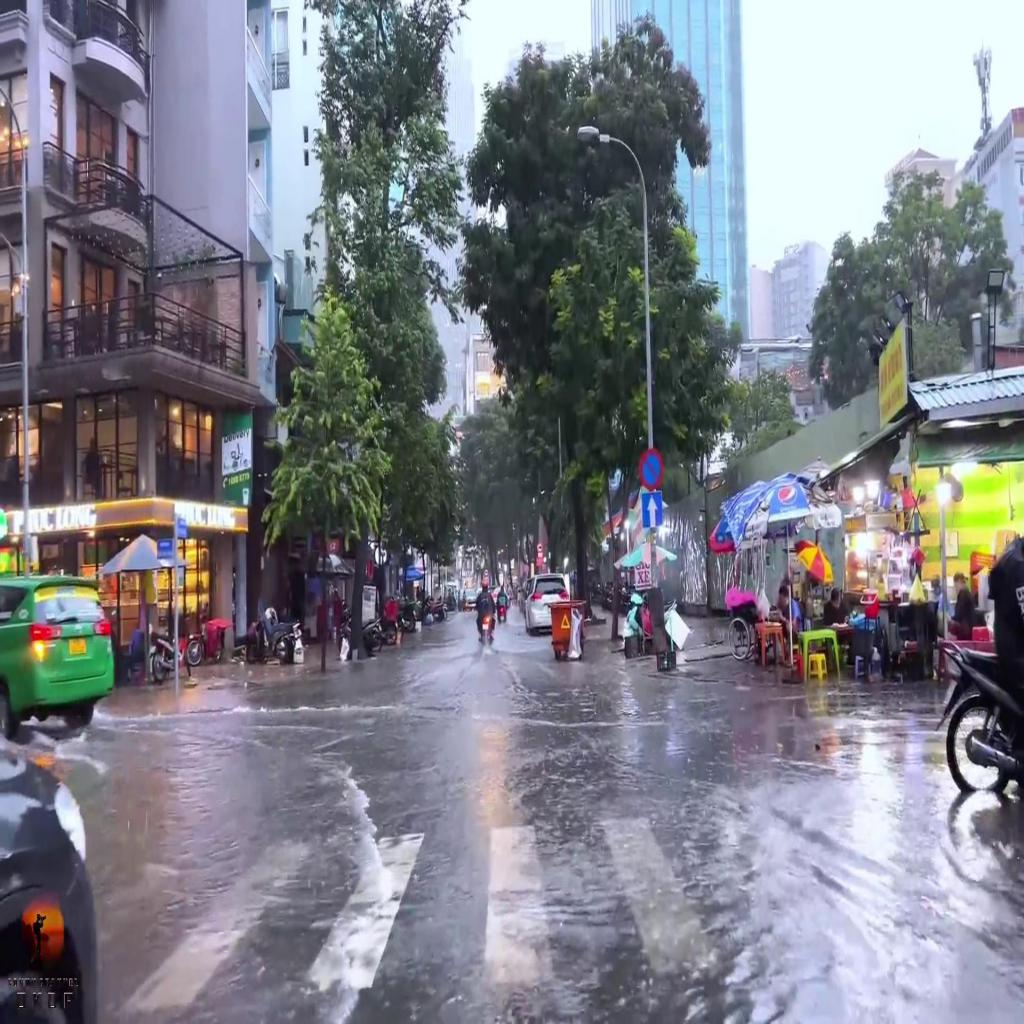cam_do_xe: (641, 448, 662, 488)
duong_mot_chieu: (640, 492, 664, 526)
